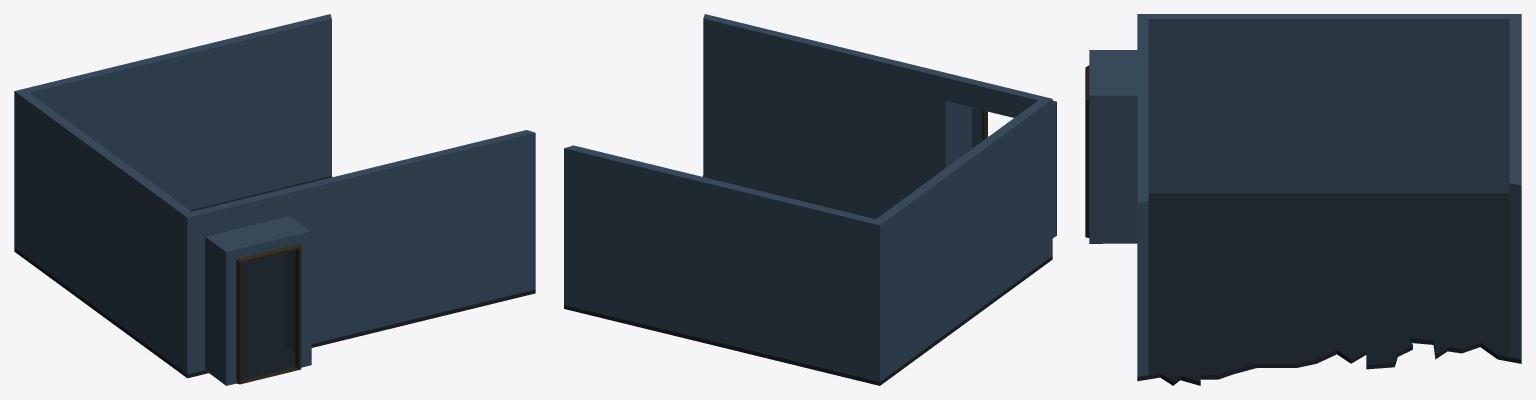
File: PROJECT DREAM - Bedroom - Broken Room.fbx
3 renders of one model, left to right at view 1: azimuth 30°, elevation 25°; view 2: azimuth 150°, elevation 25°; view 3: azimuth 270°, elevation 25°, orthographic. The views are drawn at different scales.
Visible parts, largest first — view 1: Bedroom - Broken Room; view 2: Bedroom - Broken Room; view 3: Bedroom - Broken Room.
Part boxes in pixels (x1=…): Bedroom - Broken Room: x1=14, y1=14, x2=535, y2=385; Bedroom - Broken Room: x1=564, y1=14, x2=1056, y2=385; Bedroom - Broken Room: x1=1085, y1=14, x2=1521, y2=385.
Size of the model in its own units: 953 by 410 by 908.
